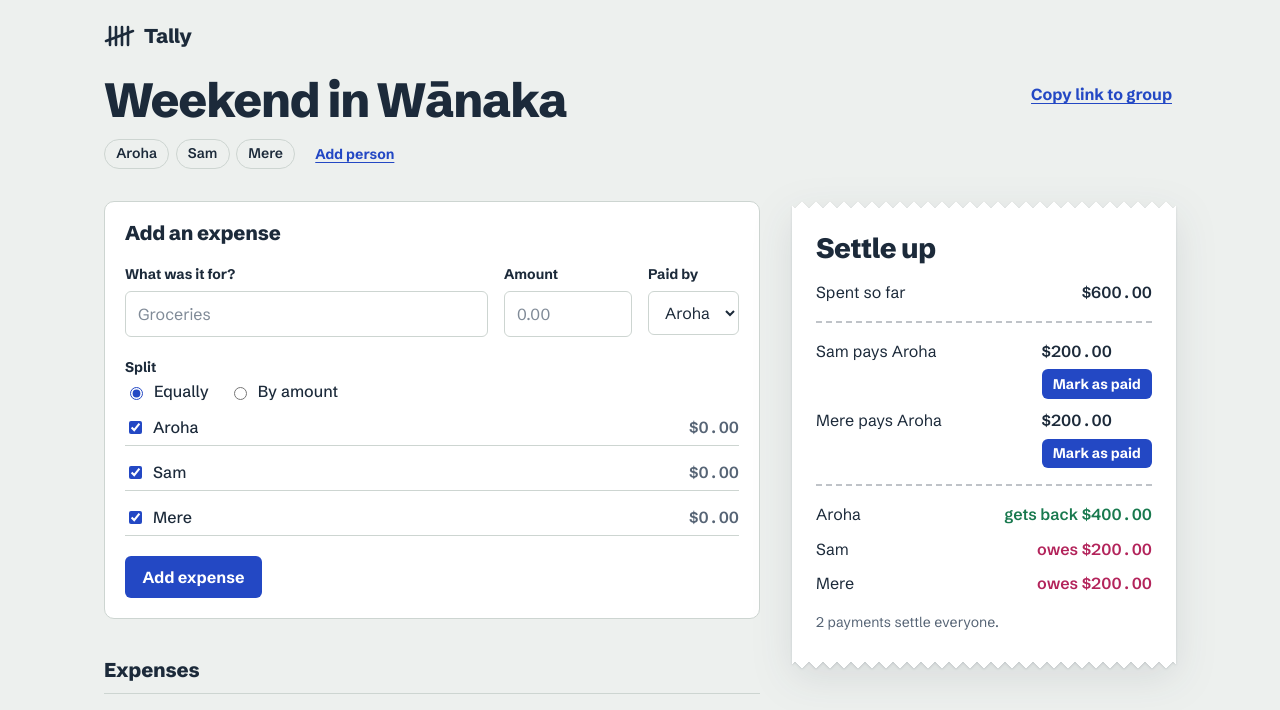
Test case: Adding an expense › shows the server’s explanation when it rejects the expense
In the field labelled "What was it for?": (306, 314) [125,291,488,337], type "Taxi"
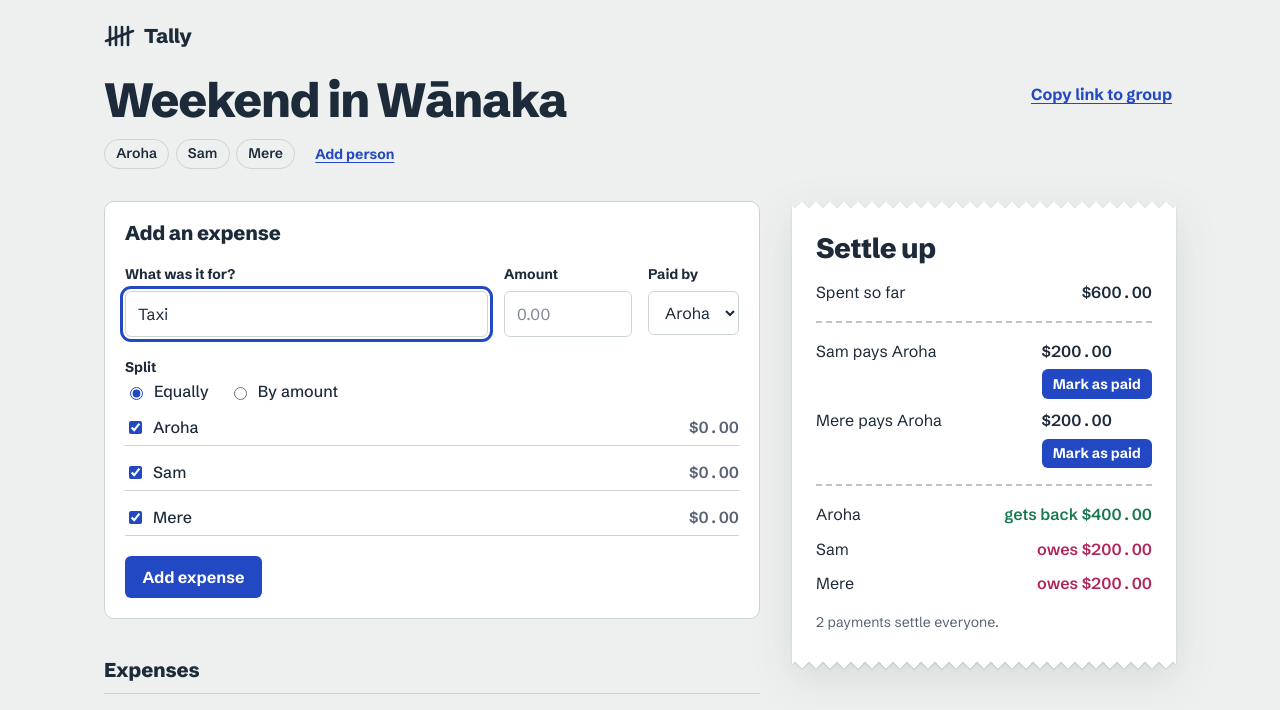
In the field labelled "Amount": (568, 314) [504,291,632,337], type "12.50"
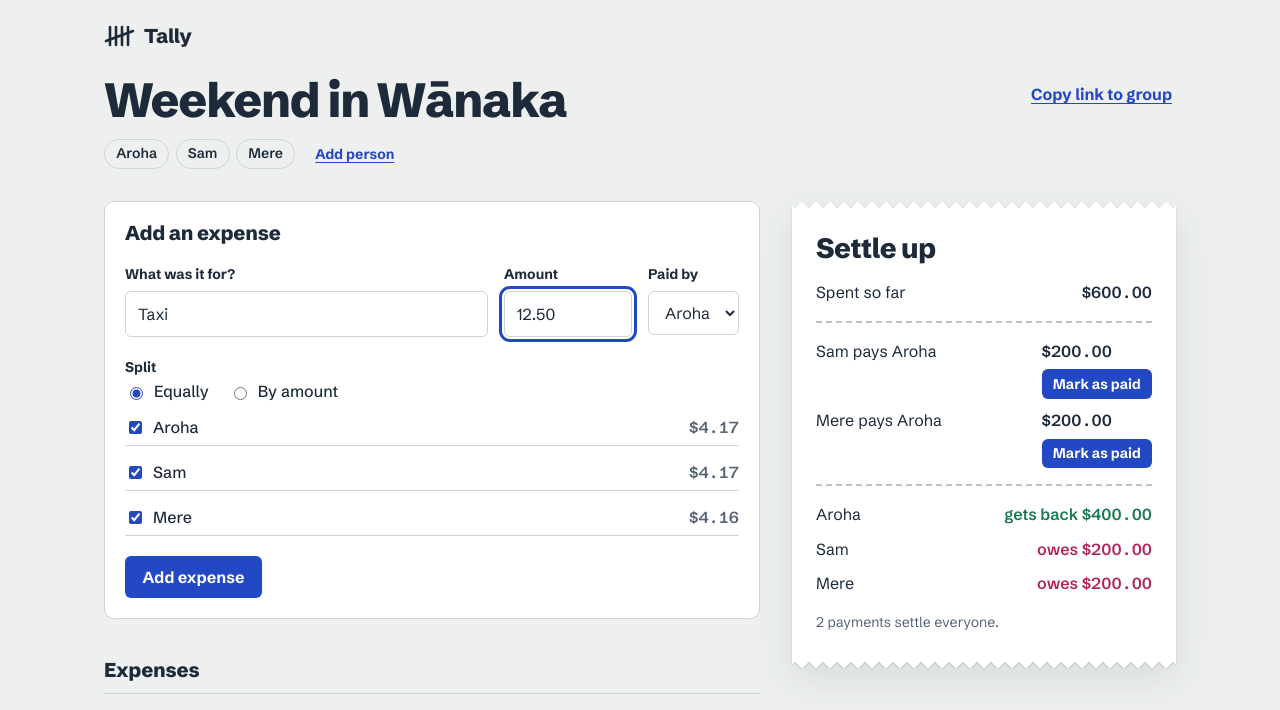
Click the button "Add expense": (194, 577) [125,556,262,598]
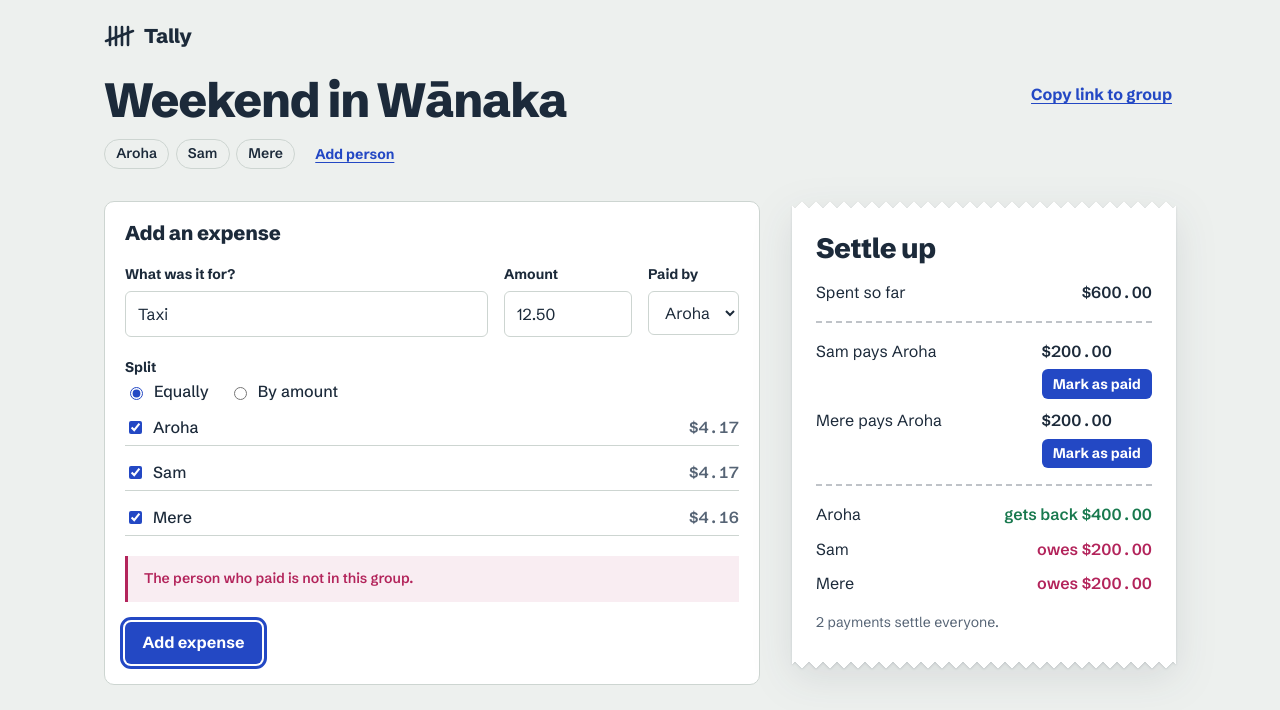
Result: the message reads "The person who paid is not in this group." at [144,570,414,588]
